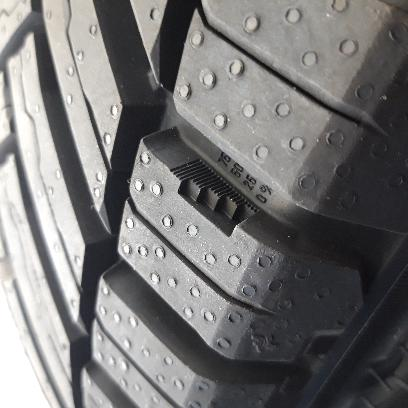temoin:100: (166, 155, 270, 243)
